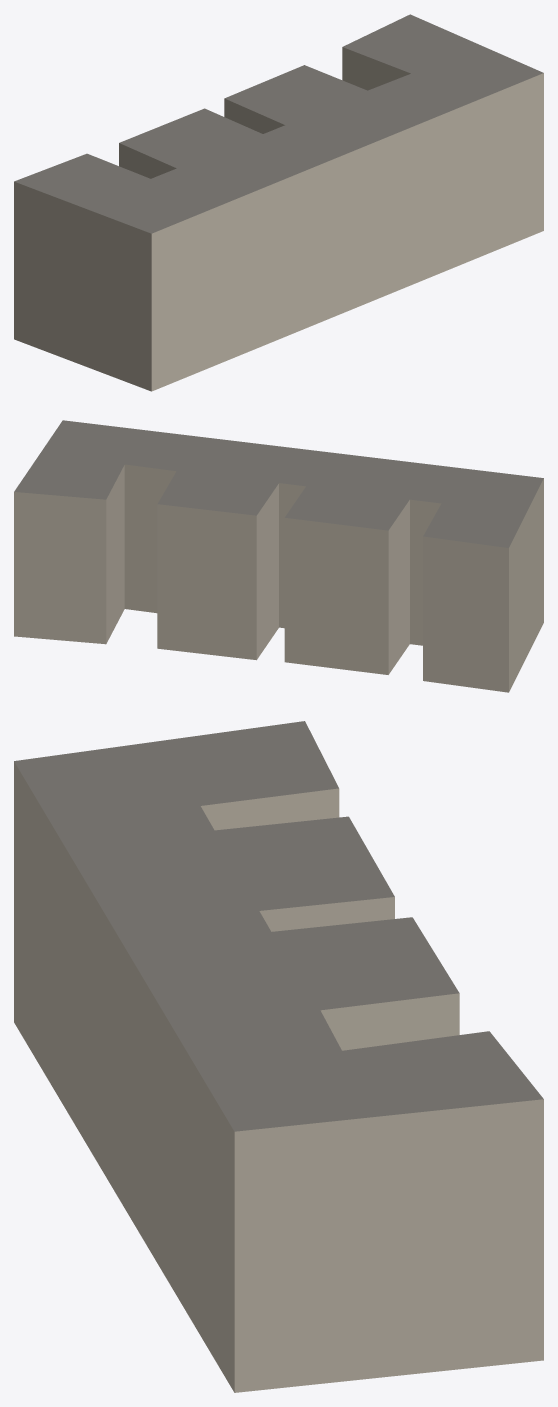
The picture shows the model from 3 angles, top to bottom: view 1: azimuth 30°, elevation 25°; view 2: azimuth 150°, elevation 25°; view 3: azimuth 270°, elevation 25°; orthographic projection. The views are drawn at different scales.
Visible parts, largest first — view 1: HP-w303313602; view 2: HP-w303313602; view 3: HP-w303313602.
Part boxes in pixels (x1,y1,x2,y2): HP-w303313602: (14, 14, 543, 391); HP-w303313602: (14, 420, 543, 692); HP-w303313602: (14, 721, 543, 1392).
Size of the model in its own units: 60.69 by 18 by 33.1.
